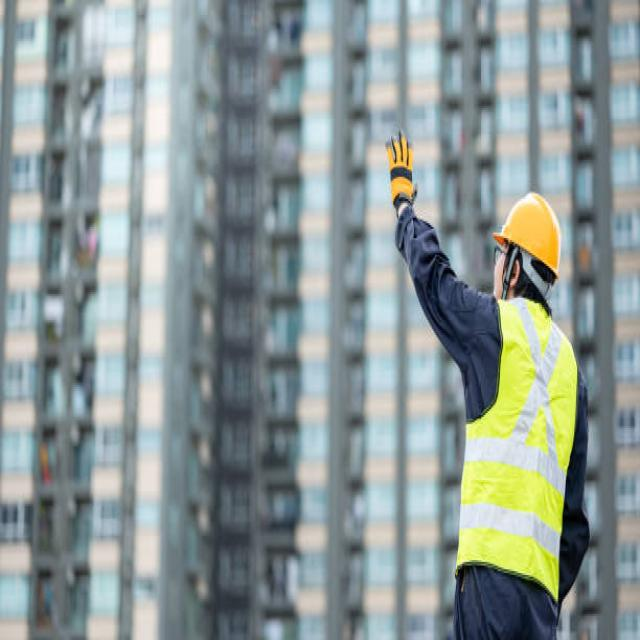Gloves: (384, 127, 422, 220)
Vest: (455, 295, 581, 610)
helmet: (492, 191, 564, 281)
person: (384, 123, 591, 640)
